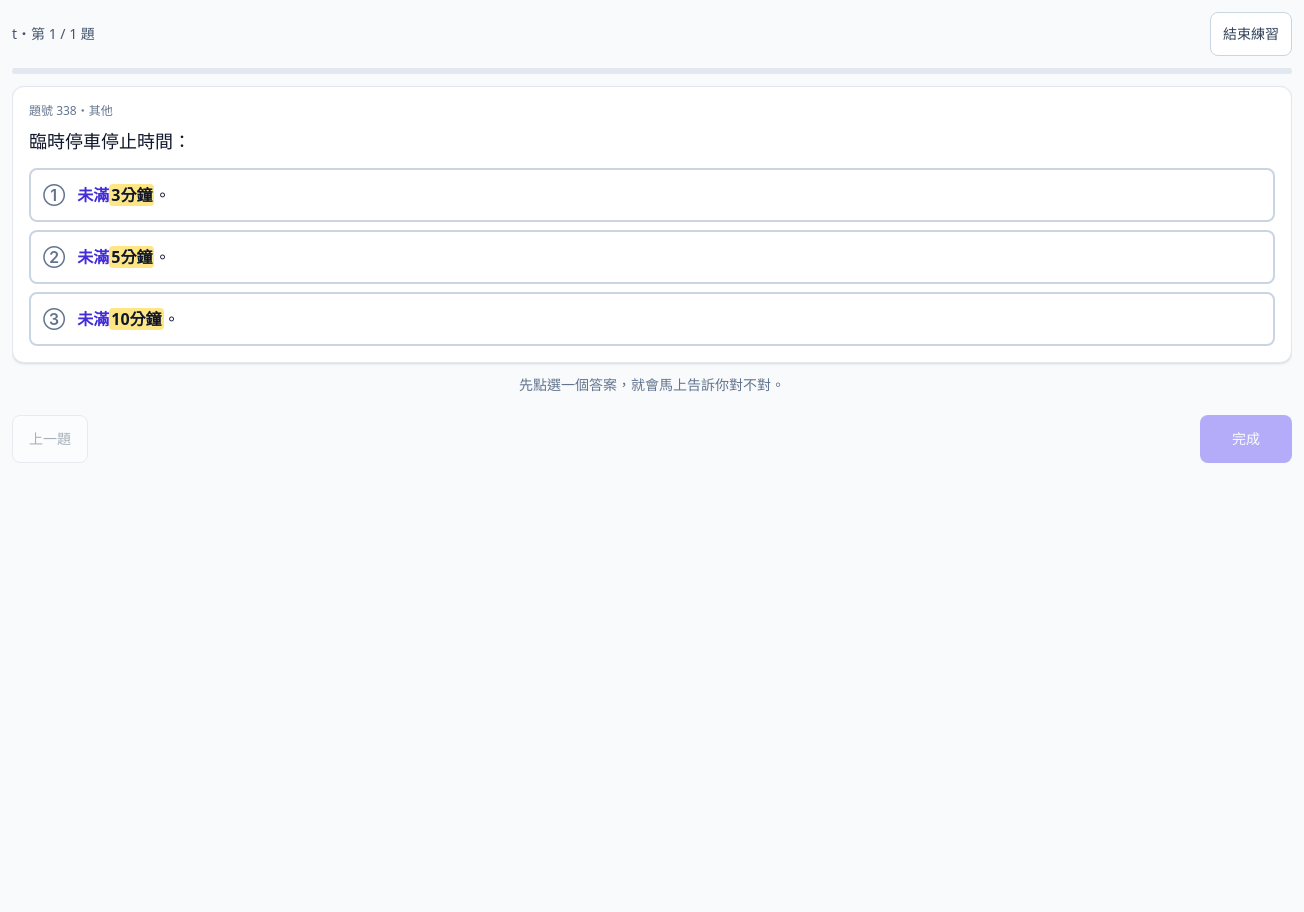
it: 數字題特訓 › 作答後高亮數字與關鍵字，並顯示題庫核對過的記憶提示
The image size is (1304, 912).
Expected: the text "3分鐘" is shown, [109,184,154,206]
Expected: the text "記憶提示" is not shown
Click the button "① 未滿3分鐘。". click: (93,195)
box: [29,168,1275,222]
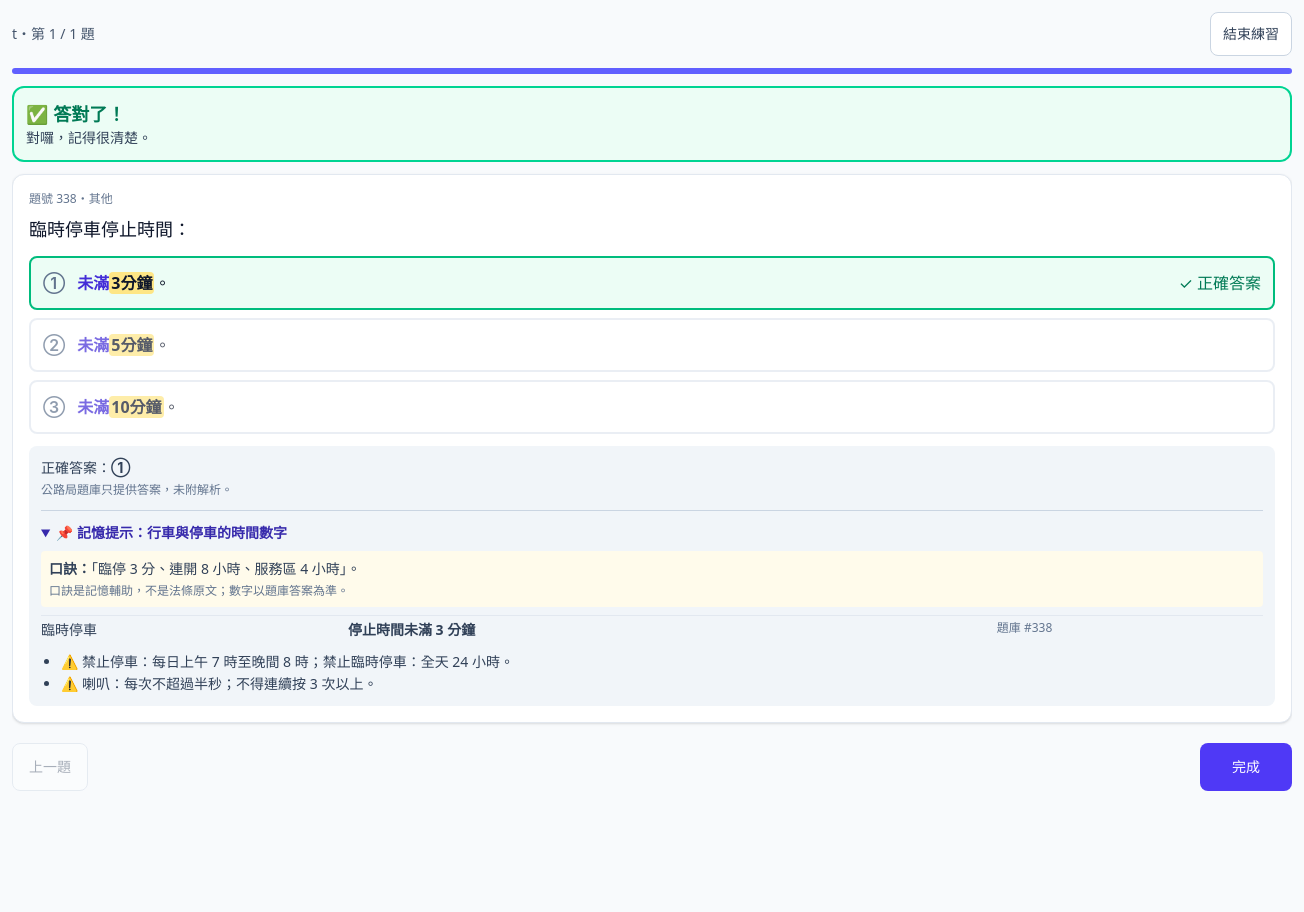
Result: the heading "📌 記憶提示：行車與停車的時間數字" is shown at [56,523,287,542]
Result: the text "口訣是記憶輔助，不是法條原文；數字以題庫答案為準。" is shown at [49,582,349,599]
